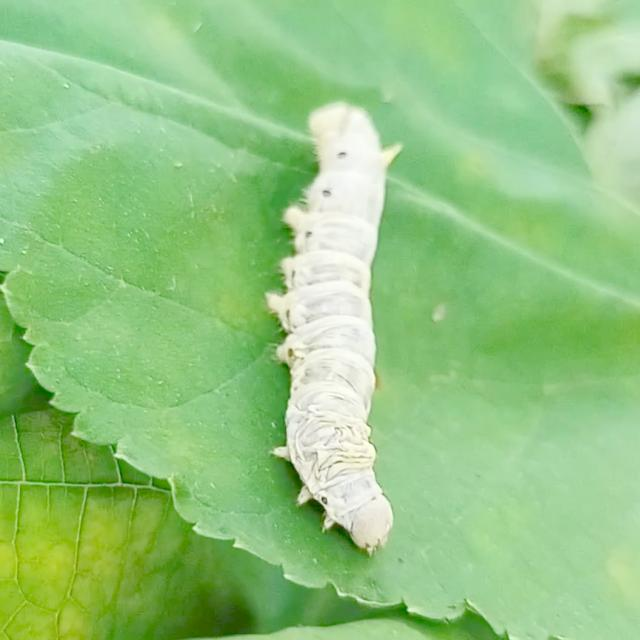Grasserie: (228, 69, 452, 582)
